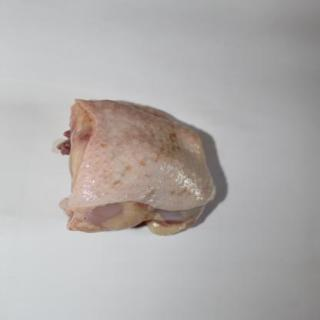Ayam: (70, 101, 219, 237)
